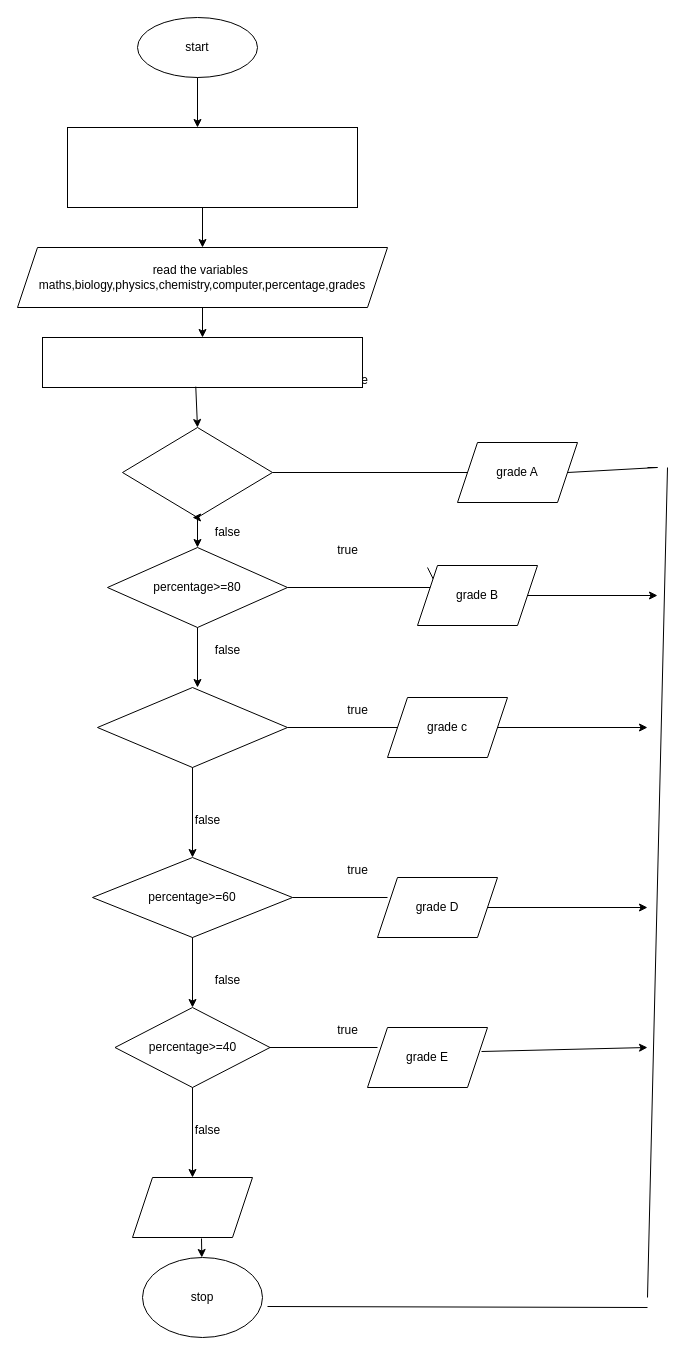
This 686x1355 diagram has some shape labels left out. Here are the shapes that lost their labels. From the top down, the centre of each, then its label:
At point (212, 167): "declare variables maths,biology,physics,chemistry,computer,percentage, grades".
At point (202, 362): "calculate the percentage=maths*chemistry*physics*biology* computer/100".
At point (197, 472): "percentage>=90".
At point (192, 727): "percentage>=70".
At point (192, 1207): "fail".
